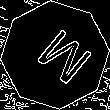M_SW: (21, 21, 89, 89)
